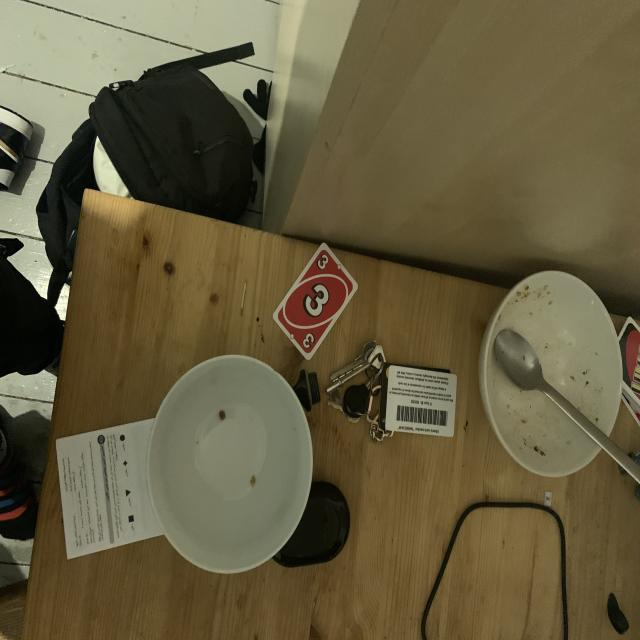lred-3: (316, 252, 330, 272)
